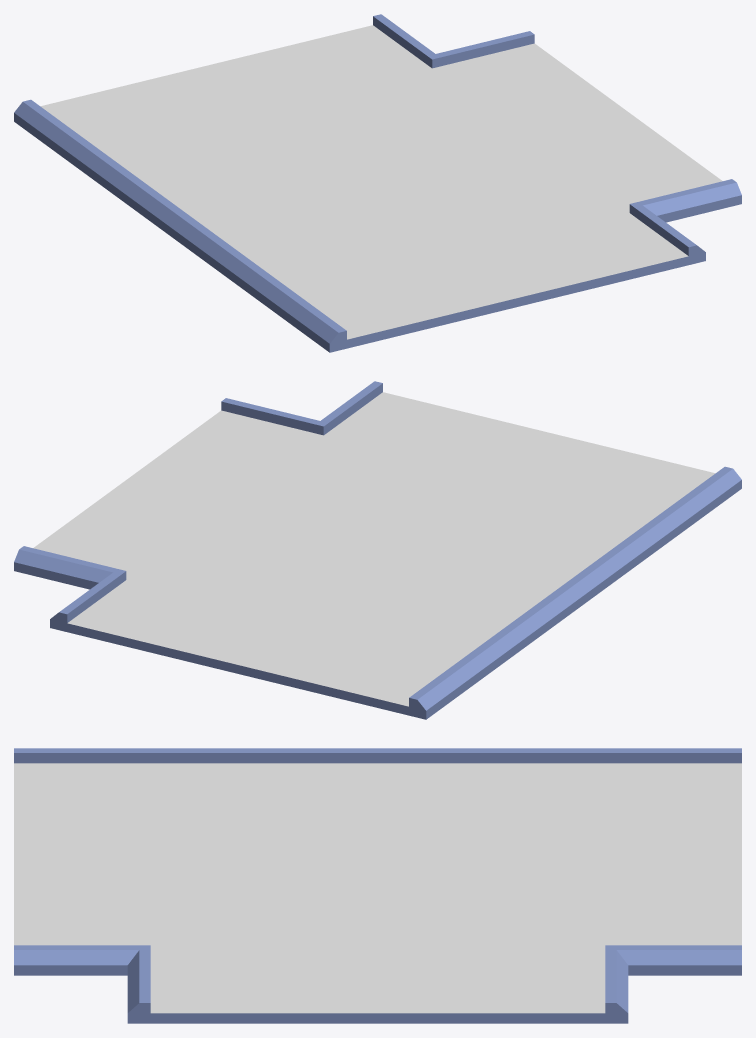
File: tile-fork.glb
3 renders of one model, top to bottom at view 1: azimuth 30°, elevation 25°; view 2: azimuth 150°, elevation 25°; view 3: azimuth 270°, elevation 25°, orthographic. The views are drawn at different scales.
Visible parts, largest first — view 1: tile-fork; view 2: tile-fork; view 3: tile-fork.
Boxes of the visible parts, box(x1,y1,x2,y2) form: tile-fork: box(14, 14, 741, 352); tile-fork: box(14, 381, 741, 719); tile-fork: box(14, 748, 741, 1023).
Bounding box in the file's own units: 13.5 × 0.5 × 16.
